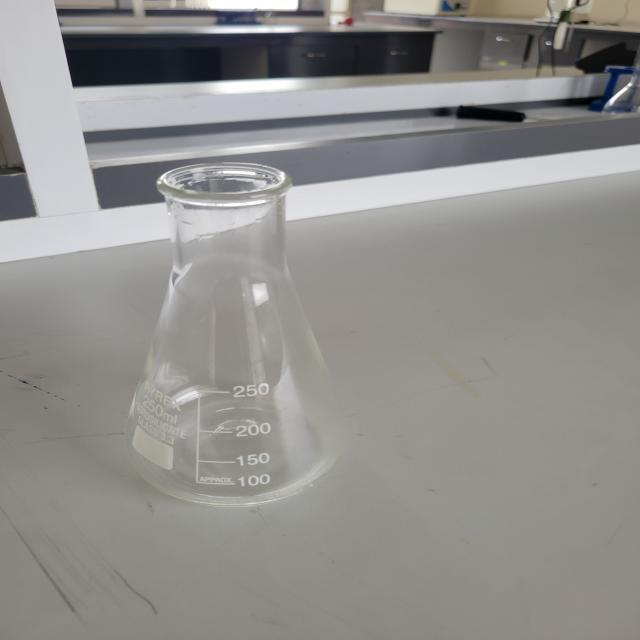Conical_Flask: (100, 143, 379, 531)
